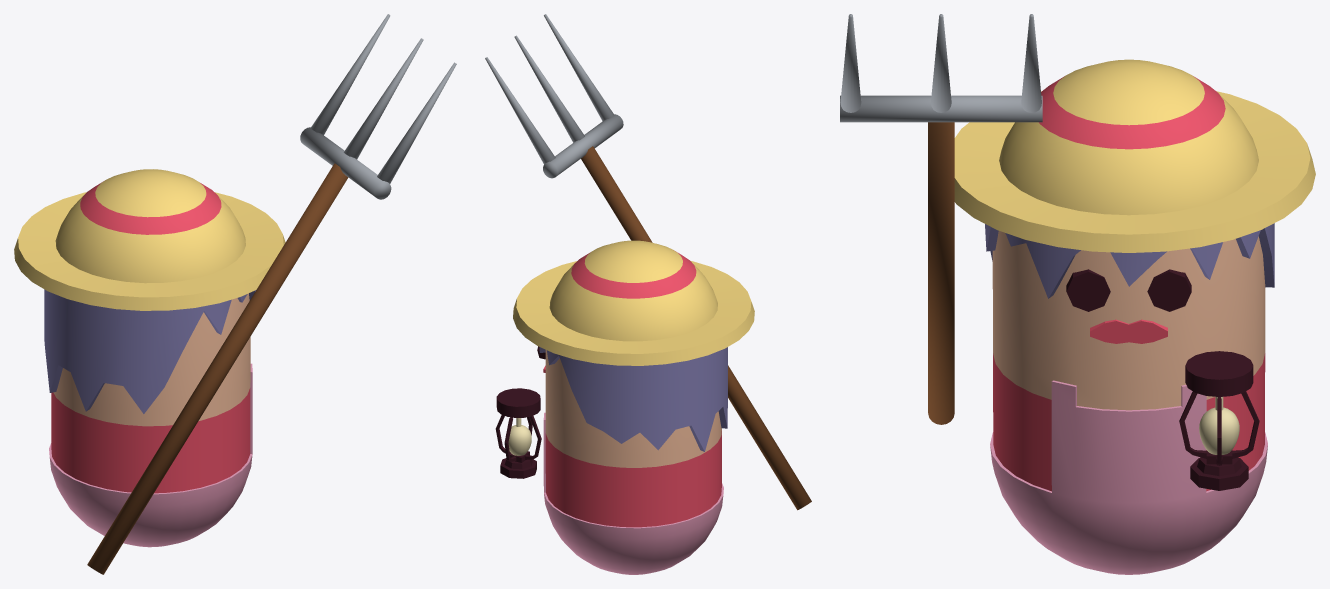
The model's file is Farmer_2.fbx.
3 views of the same model, side by side, from view 1: azimuth 30°, elevation 25°; view 2: azimuth 150°, elevation 25°; view 3: azimuth 270°, elevation 25° (orthographic). The views are drawn at different scales.
Visible parts, largest first — view 1: Farmer_2, Farmer_Tool_2; view 2: Farmer_2, Farmer_Tool_2, Lamp; view 3: Farmer_2, Farmer_Tool_2, Lamp.
Part boxes in pixels (left/top/right/bottom): Farmer_2: left=14, top=169, right=285, bottom=547; Farmer_Tool_2: left=87, top=14, right=456, bottom=574; Farmer_2: left=513, top=240, right=754, bottom=574; Farmer_Tool_2: left=485, top=14, right=811, bottom=510; Lamp: left=495, top=388, right=541, bottom=478; Farmer_2: left=954, top=59, right=1315, bottom=574; Farmer_Tool_2: left=840, top=14, right=1042, bottom=424; Lamp: left=1179, top=351, right=1259, bottom=490.
Bounding box in the file's own units: 169 × 242 × 153.
